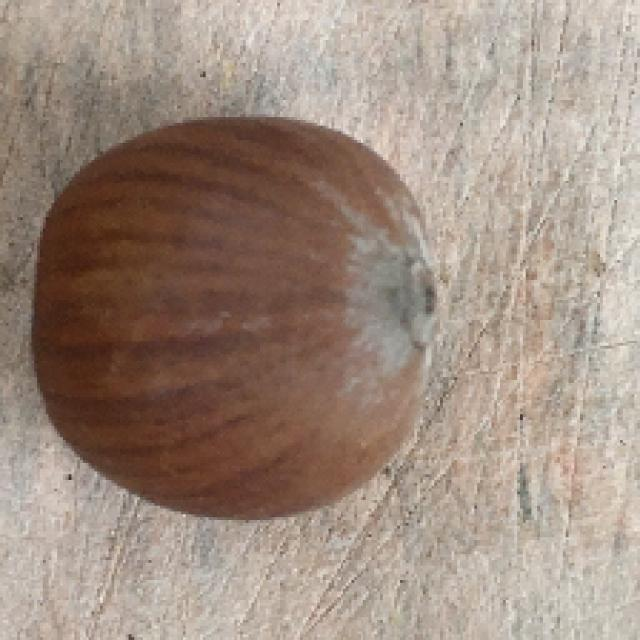qualityHazelnut: (37, 110, 449, 518)
